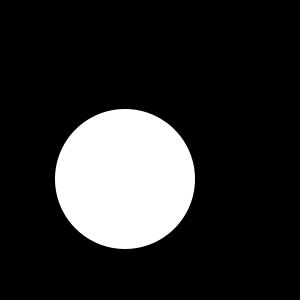rectangle: (55, 109, 195, 249)
